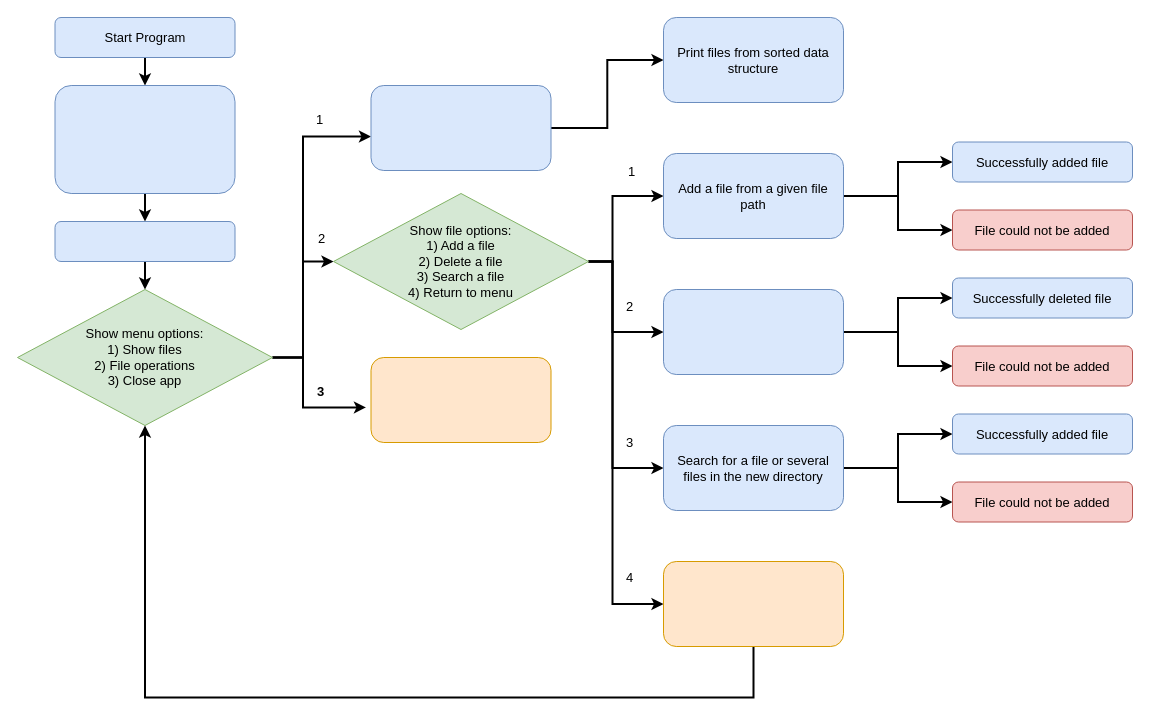
The diagram is 1150 pixels wide and 724 high, and some of its shapes have lost their labels. Here are the shapes that lost their labels. From the top down, the centre of each, then its label:
point (144, 139): App name, developer details
point (460, 127): Show all files
point (144, 241): Show the options
point (753, 331): Delete a file from the new directory
point (460, 399): Exit Program
point (753, 603): Return to main menu
